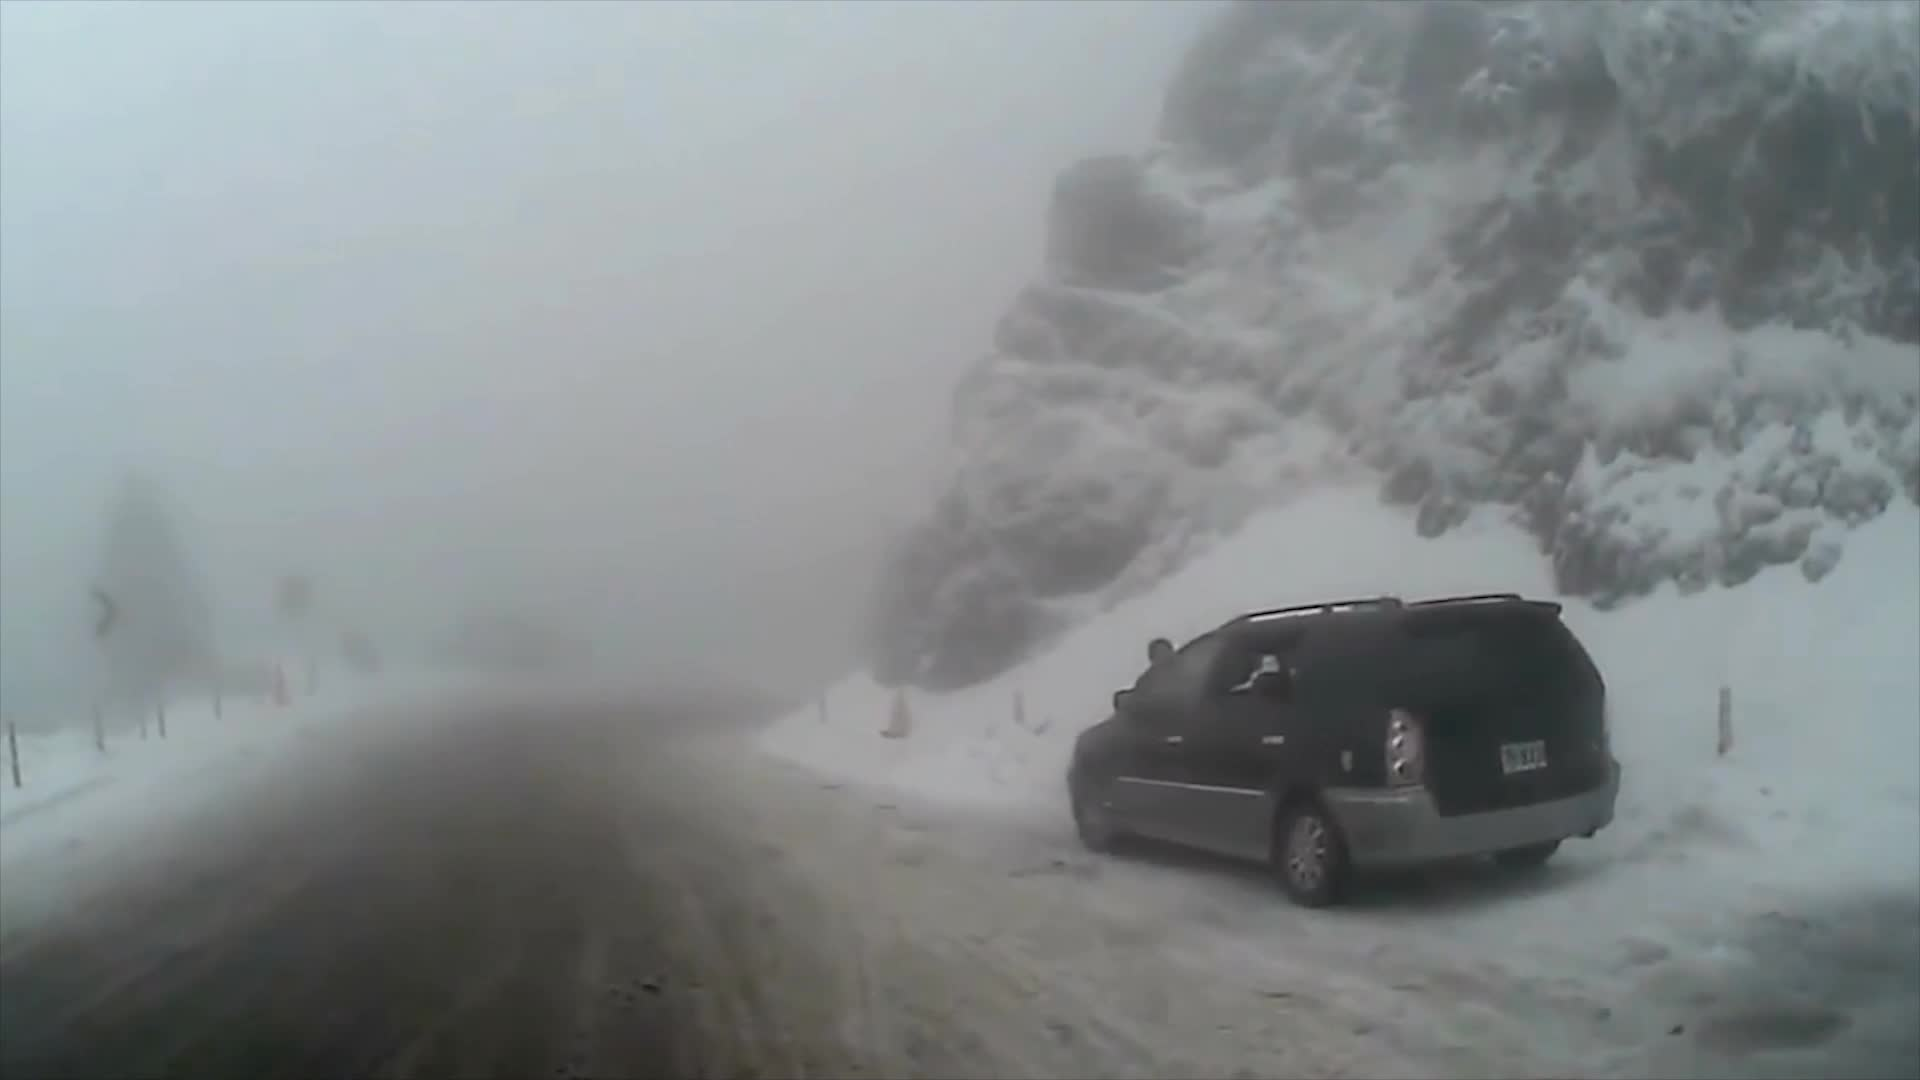vehicle: (1064, 588, 1621, 909)
